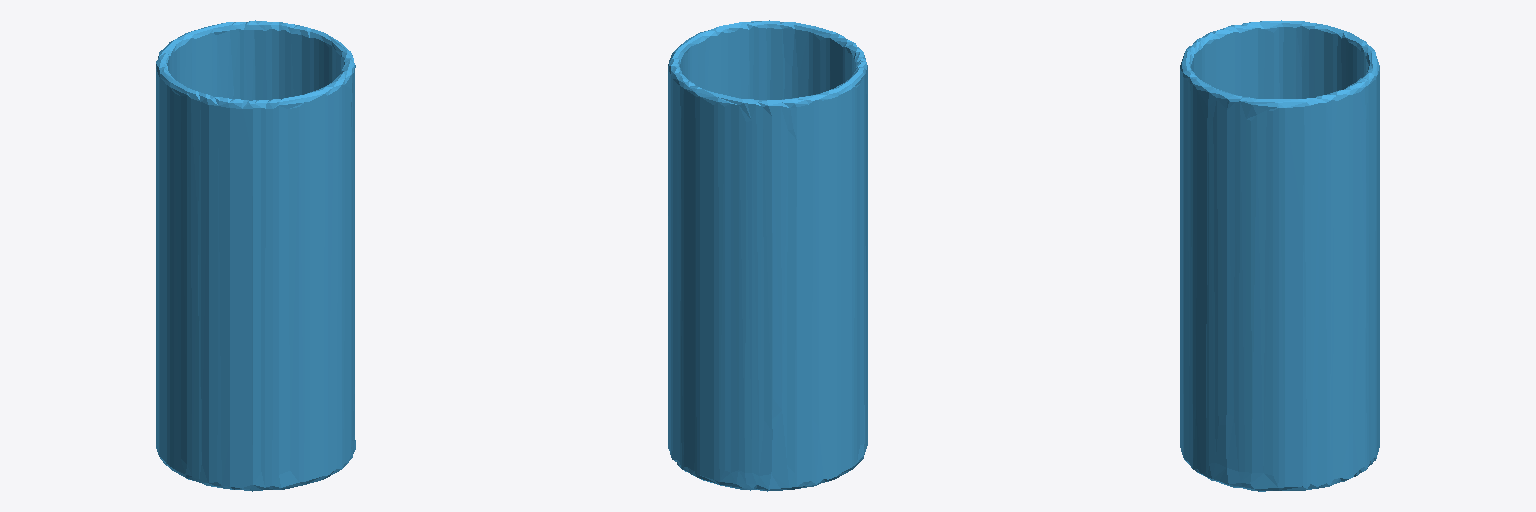
robot.urdf — Cup_97aa1929318460e69dfbd41352e3517a_S:
<?xml version="1.0"?>
<robot name="Cup_97aa1929318460e69dfbd41352e3517a_S">
  <link name="base"/>
  <link name="link_0">
  <visual>
    <origin xyz="0.0 0.0 0.0"/>
    <geometry>
      <mesh filename="Cup_97aa1929318460e69dfbd41352e3517a_S.obj" scale="1.0 1.0 1.0"/>
    </geometry>
  </visual>
  <collision>
    <origin xyz="0.0 0.0 0.0"/>
    <geometry>
      <mesh filename="collision.obj" scale="1.0 1.0 1.0"/>
    </geometry>
  </collision>
  </link>
  <joint name="joint_0" type="fixed">
    <origin rpy="0 0 0" xyz="0 0 0"/>
    <child link="link_0"/>
    <parent link="base"/>
  </joint>
</robot>

--- What the picture shows (computed from the rendered views, not written in the file) ---
The picture shows the robot from 3 angles, left to right: view 1: azimuth 30°, elevation 25°; view 2: azimuth 150°, elevation 25°; view 3: azimuth 270°, elevation 25°; orthographic projection.
Robot: Cup_97aa1929318460e69dfbd41352e3517a_S — 2 links, 1 joints (1 fixed); root link base; default pose: all joints at 0.
Links seen in each view (by area): view 1: link_0; view 2: link_0; view 3: link_0.
Link boxes in pixels (x1,y1,x2,y2): link_0: (156, 20, 355, 491); link_0: (668, 20, 867, 491); link_0: (1180, 20, 1379, 491).
Size in the robot's own frame: 0.0348 by 0.0348 by 0.0755 metres.
1 mesh visuals loaded from 1 distinct referenced files (1 OBJ).